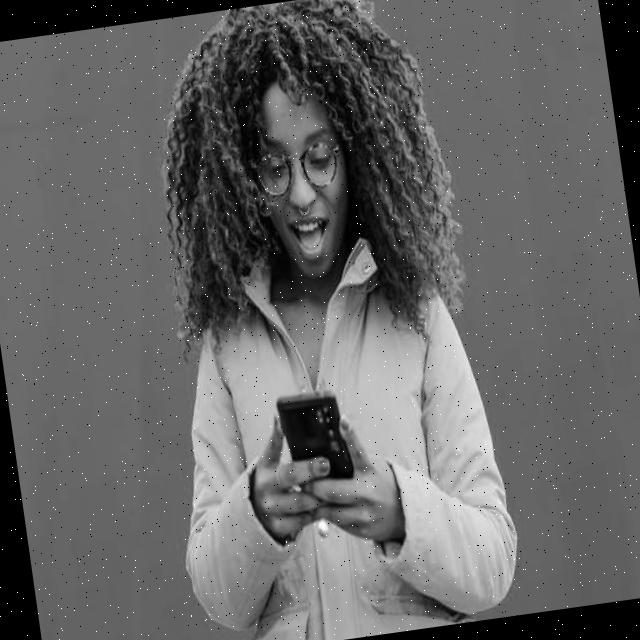Surprised: (247, 71, 358, 284)
